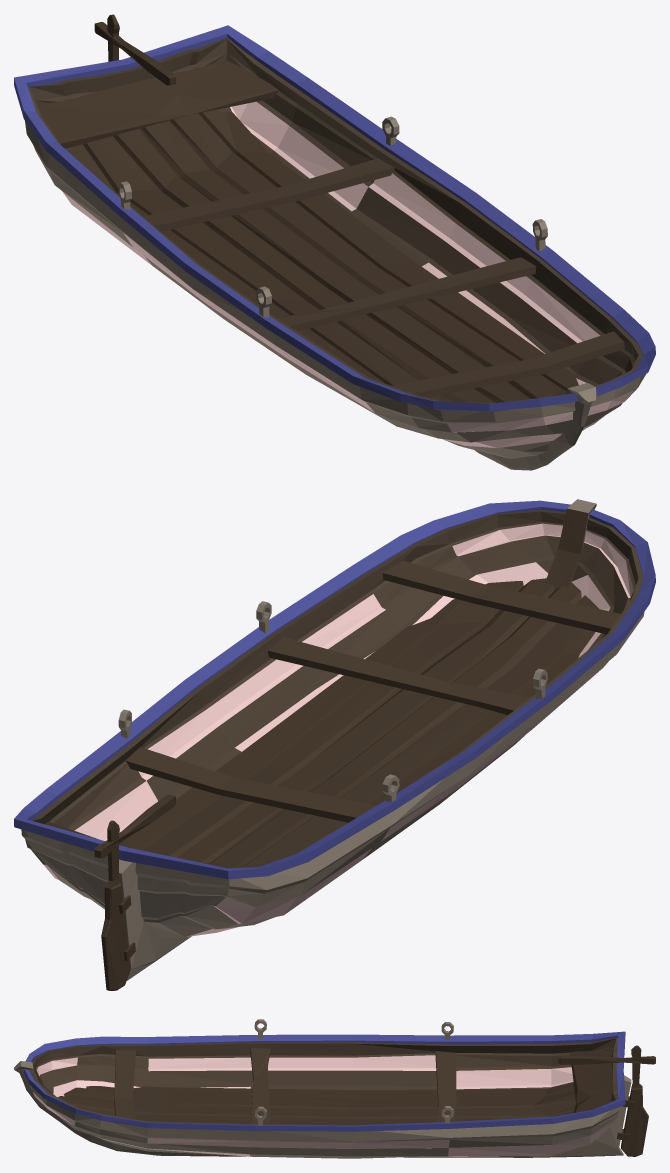
Rendered from SM_Veh_Boat_Small_01_Hull_Pirate.glb.
The picture shows the model from 3 angles, top to bottom: view 1: azimuth 30°, elevation 25°; view 2: azimuth 150°, elevation 25°; view 3: azimuth 270°, elevation 25°; orthographic projection. The views are drawn at different scales.
Parts seen in each view (by area): view 1: SM_Veh_Boat_Small_01_Hull_Pirate_00; view 2: SM_Veh_Boat_Small_01_Hull_Pirate_00; view 3: SM_Veh_Boat_Small_01_Hull_Pirate_00.
Part boxes in pixels (x1,y1,x2,y2): SM_Veh_Boat_Small_01_Hull_Pirate_00: (14, 14, 655, 470); SM_Veh_Boat_Small_01_Hull_Pirate_00: (14, 499, 655, 990); SM_Veh_Boat_Small_01_Hull_Pirate_00: (14, 1019, 655, 1158).
Bounding box in the file's own units: 2.88 × 1.63 × 8.5.
1 material, 1 textured.
